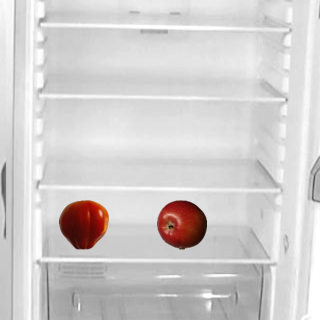Apple Braeburn: (156, 199, 206, 249)
Tomato 1: (58, 199, 108, 249)
